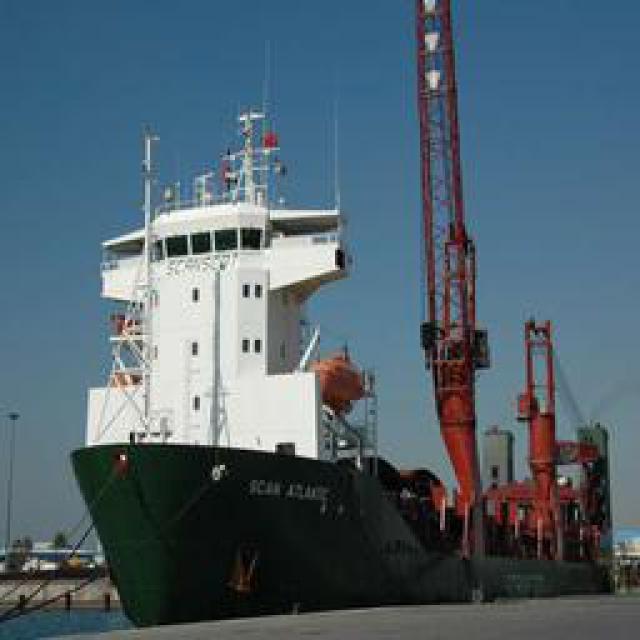Ship: (70, 20, 453, 625)
